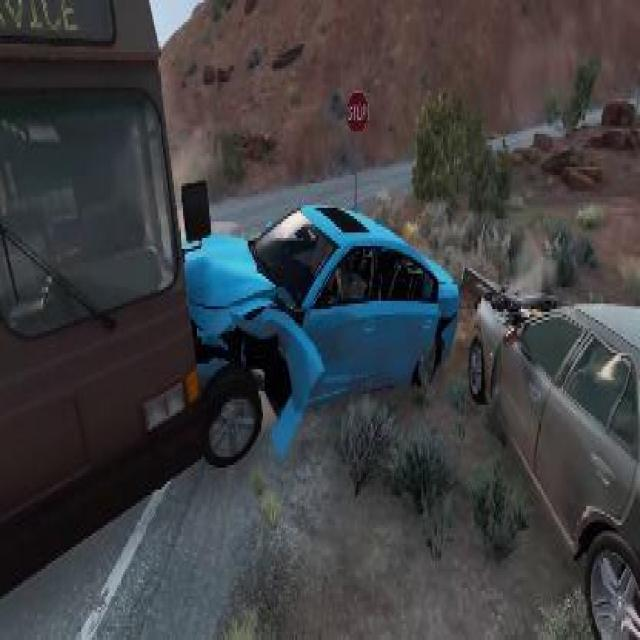accident: (0, 0, 463, 621)
